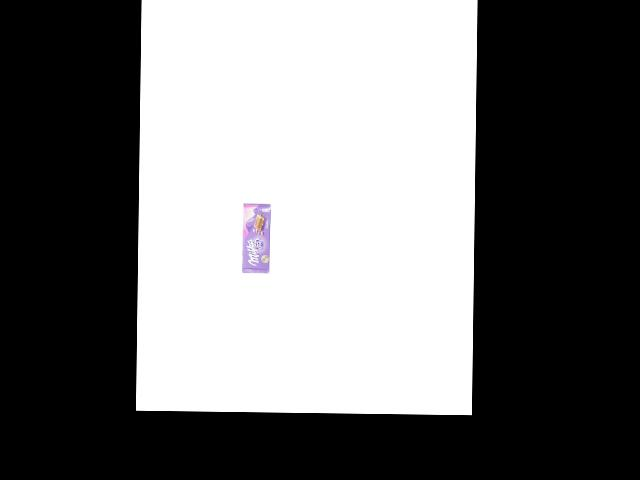chocolate: (241, 203, 271, 273)
